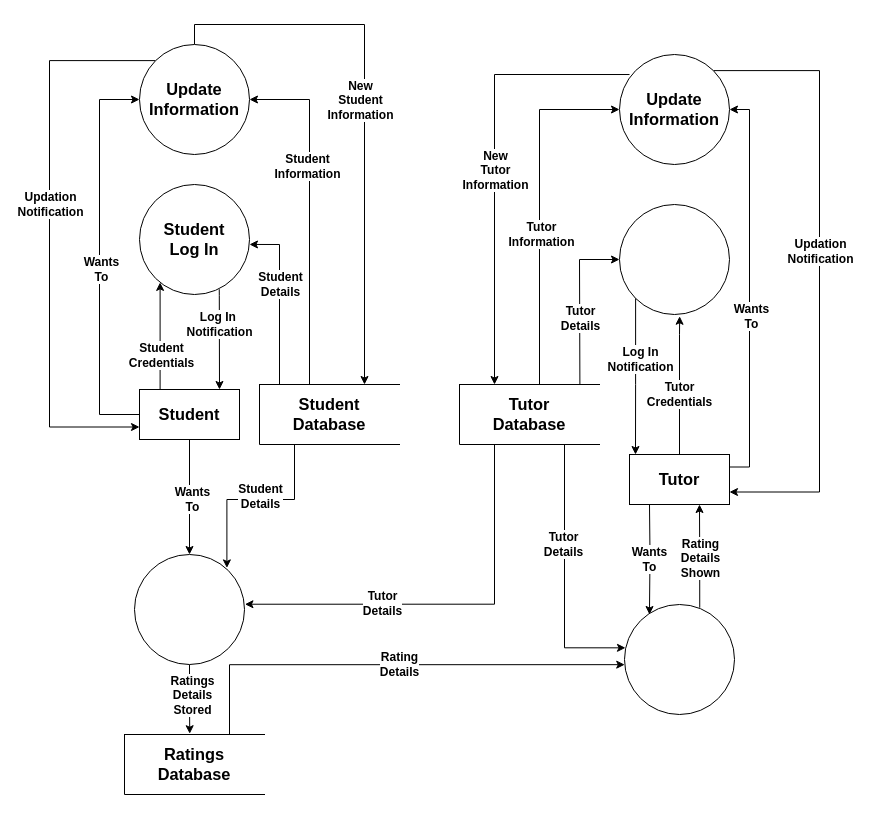
Image size: 870x818. Some labels were removed from this diagram. The shapes that lost their labels are listed below. From the top down, each one's centre as x and y in pixels, then its label:
the point at 674,259: Tutor Log In
the point at 189,609: Rate Tutor
the point at 679,659: Check Ratings
